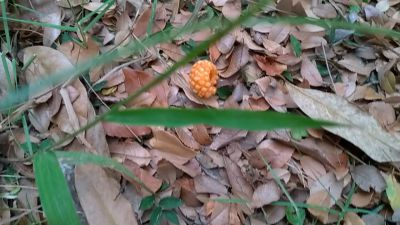eggs: (188, 56, 221, 101)
